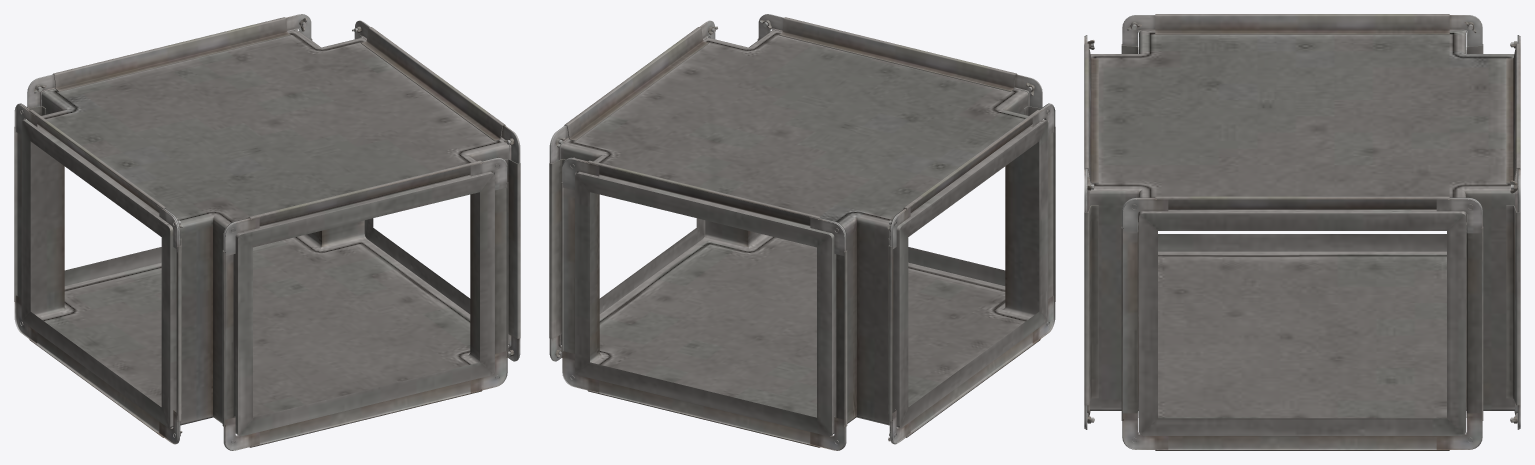
File: splitter_01.gltf
3 views of the same model, side by side, from view 1: azimuth 30°, elevation 25°; view 2: azimuth 150°, elevation 25°; view 3: azimuth 270°, elevation 25° (orthographic). The views are drawn at different scales.
Visible parts, largest first — view 1: splitter_01; view 2: splitter_01; view 3: splitter_01.
Boxes of the visible parts, left/top/right/bottom form: splitter_01: left=14, top=14, right=520, bottom=450; splitter_01: left=549, top=14, right=1055, bottom=450; splitter_01: left=1084, top=14, right=1520, bottom=450.
Bounding box in the file's own units: 0.8 × 0.5126 × 0.8.
2 materials, 2 textured.
